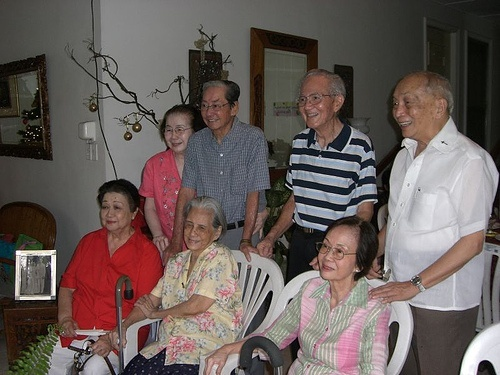head: (387, 64, 458, 144), (312, 212, 369, 284), (297, 66, 350, 133), (179, 195, 226, 256), (196, 76, 243, 133), (98, 181, 139, 236), (156, 102, 196, 156)
person: (375, 65, 495, 375), (209, 218, 399, 371), (106, 192, 242, 373), (267, 68, 378, 276), (54, 177, 162, 375), (171, 77, 272, 255), (136, 102, 200, 261)
